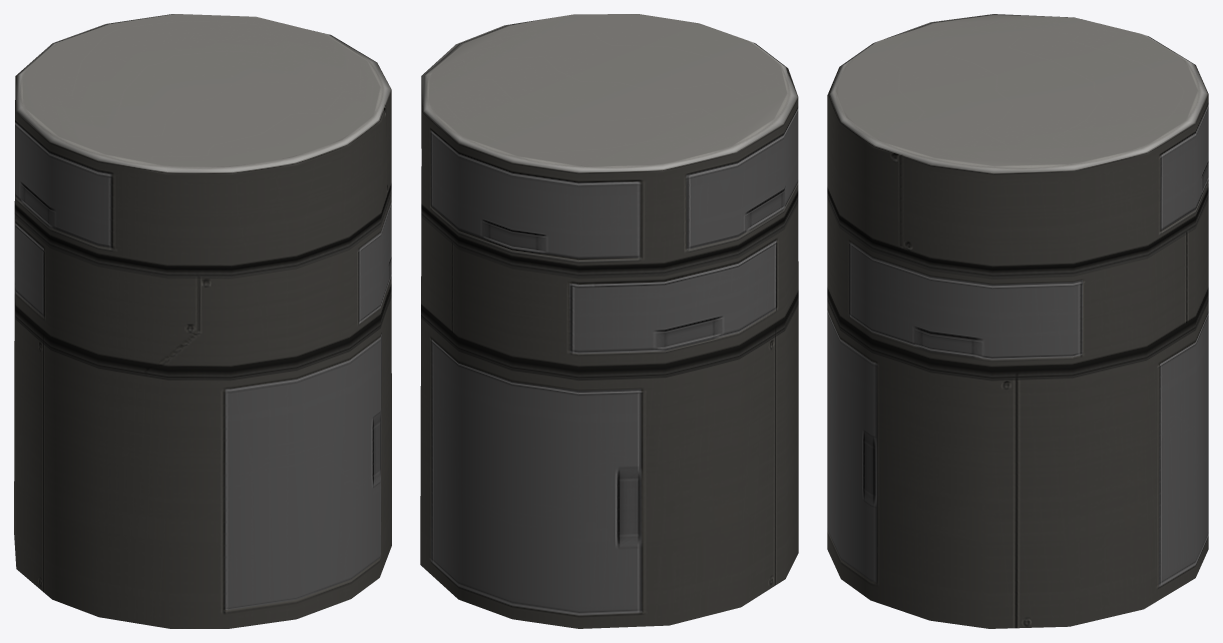
The model's file is Drawer.fbx.
3 views of the same model, side by side, from view 1: azimuth 30°, elevation 25°; view 2: azimuth 150°, elevation 25°; view 3: azimuth 270°, elevation 25° (orthographic).
Parts seen in each view (by area): view 1: lowCdra:RetopoGroup1; view 2: lowCdra:RetopoGroup1; view 3: lowCdra:RetopoGroup1.
Part boxes in pixels (left/top/right/bottom): lowCdra:RetopoGroup1: left=14, top=14, right=391, bottom=628; lowCdra:RetopoGroup1: left=420, top=14, right=798, bottom=628; lowCdra:RetopoGroup1: left=827, top=14, right=1208, bottom=628.
Size of the model in its own units: 50.93 by 68.23 by 51.41.
